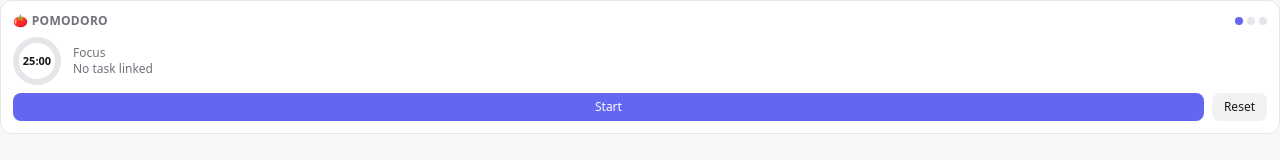
Test: PomodoroWidget › counts down when started and can pause
Click the button "Start". click: (608, 107)
box: [13, 93, 1204, 121]
Wait 3000 ms
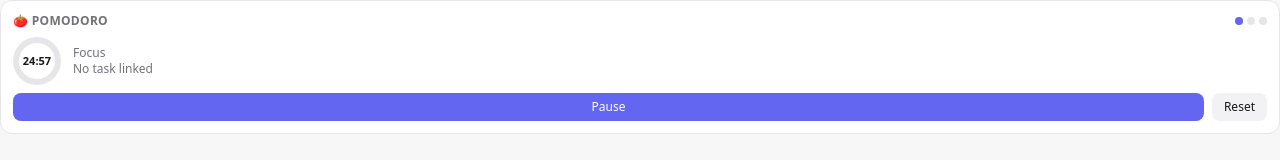
Check: the button "Pause" is shown
Check: the text "24:57" is shown, box [19, 43, 55, 79]
Click the button "Pause". click: (608, 107)
box: [13, 93, 1204, 121]
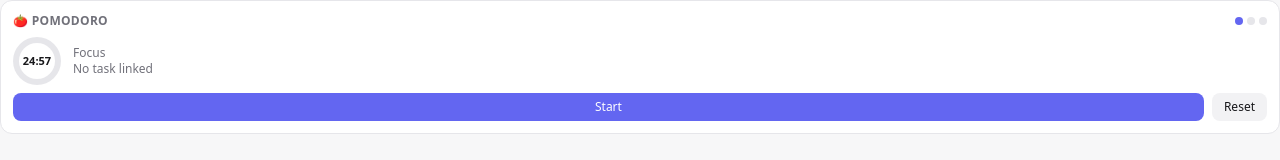
Check: the button "Start" is shown, box [13, 93, 1204, 121]
